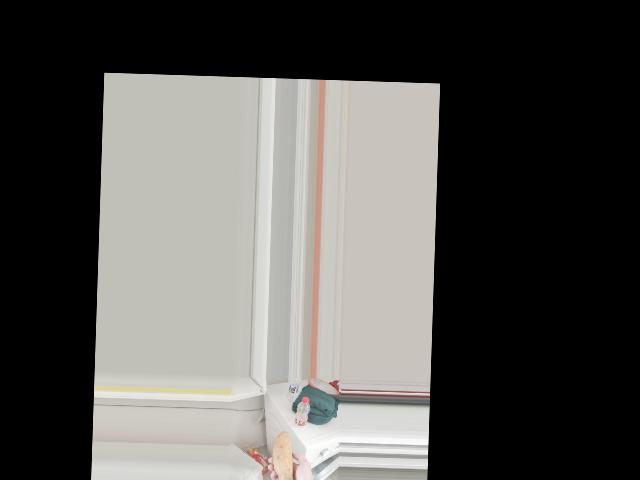sweet_potato: (271, 437, 294, 480)
